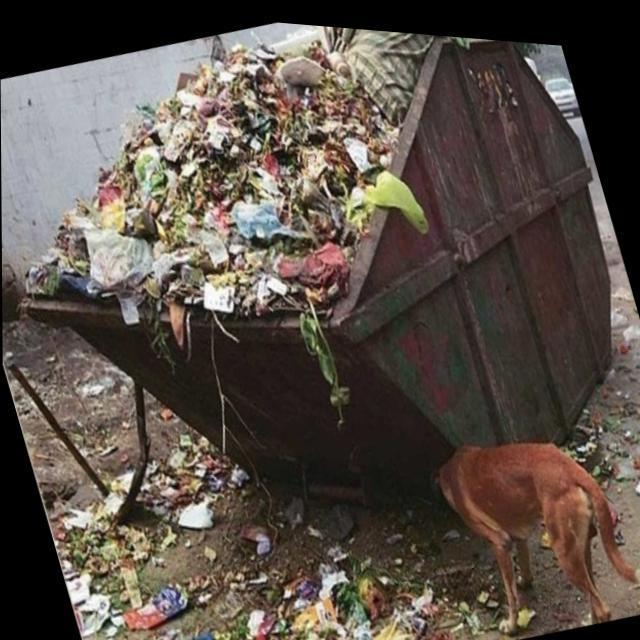Garbage: (25, 20, 436, 414)
Plastic_Bag: (346, 162, 428, 226), (84, 226, 152, 288), (231, 195, 308, 234)
